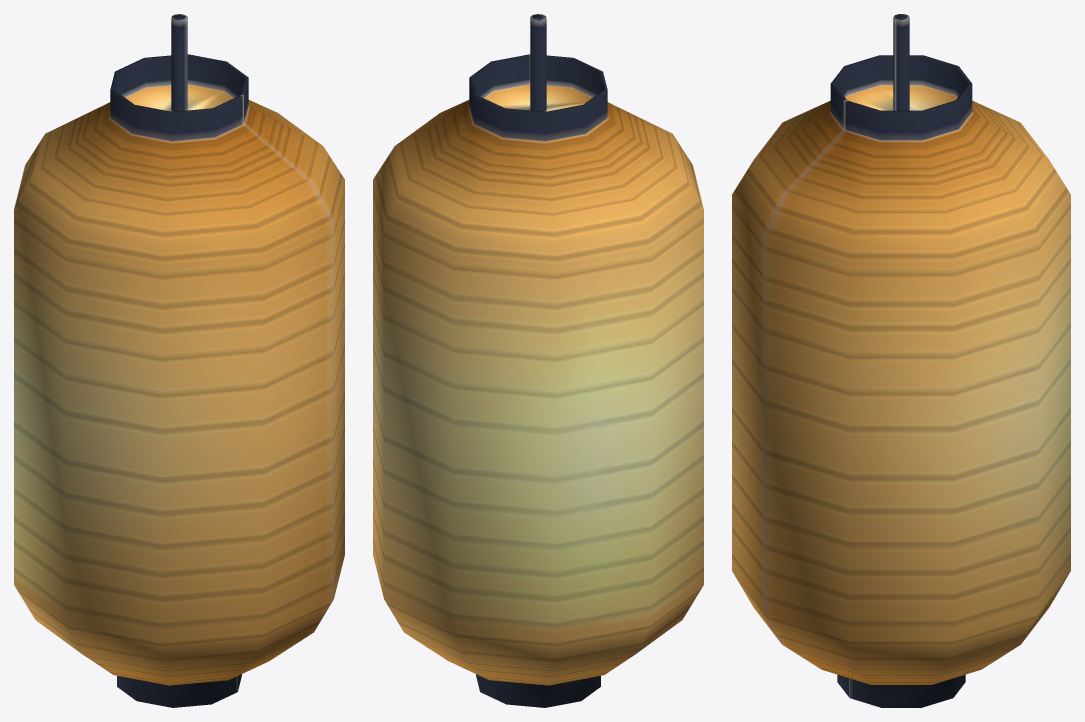
The model's file is jp_paper_lantern.glb.
The picture shows the model from 3 angles, left to right: view 1: azimuth 30°, elevation 25°; view 2: azimuth 150°, elevation 25°; view 3: azimuth 270°, elevation 25°; orthographic projection.
Visible parts, largest first — view 1: Cylinder; view 2: Cylinder; view 3: Cylinder.
Part boxes in pixels (x1,y1,x2,y2): Cylinder: (14, 14, 344, 707); Cylinder: (373, 14, 703, 707); Cylinder: (732, 14, 1070, 707).
Bounding box in the file's own units: 0.7023 × 1.6 × 0.7385.
1 material, 1 textured.
